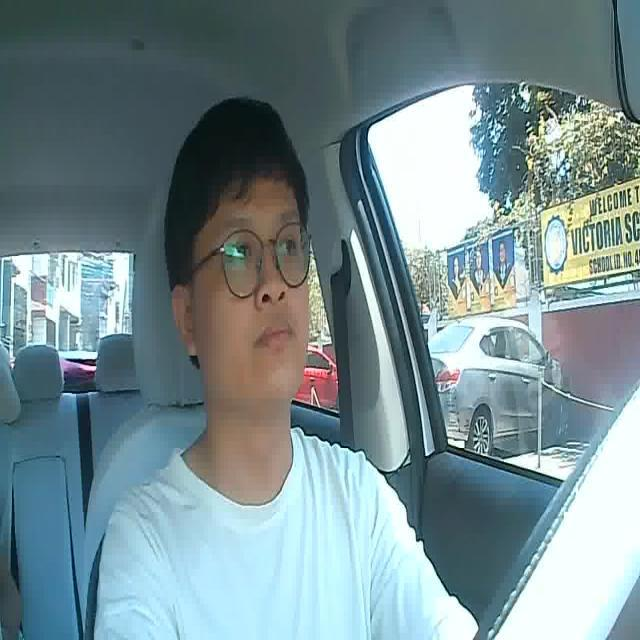Attentive: (174, 105, 320, 422)
Eye-Open: (228, 238, 260, 264), (278, 235, 302, 258)
Normal: (259, 320, 296, 355)
